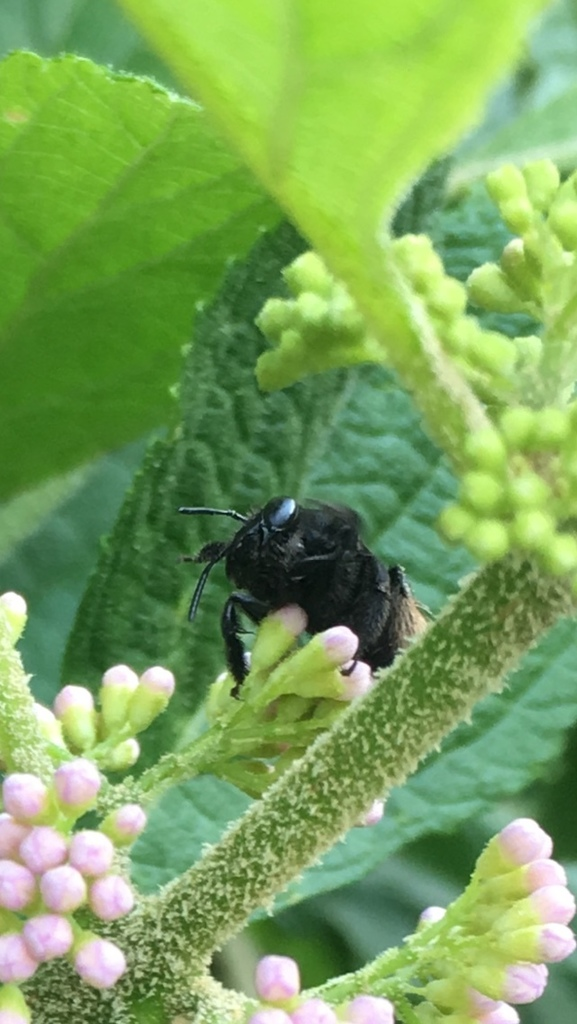not_bumblebee: (175, 493, 428, 705)
